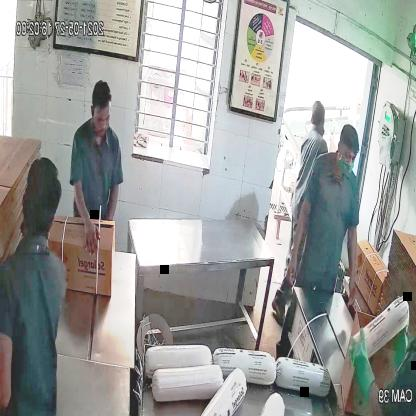no_goggles: (90, 107, 114, 130), (336, 145, 360, 166)
